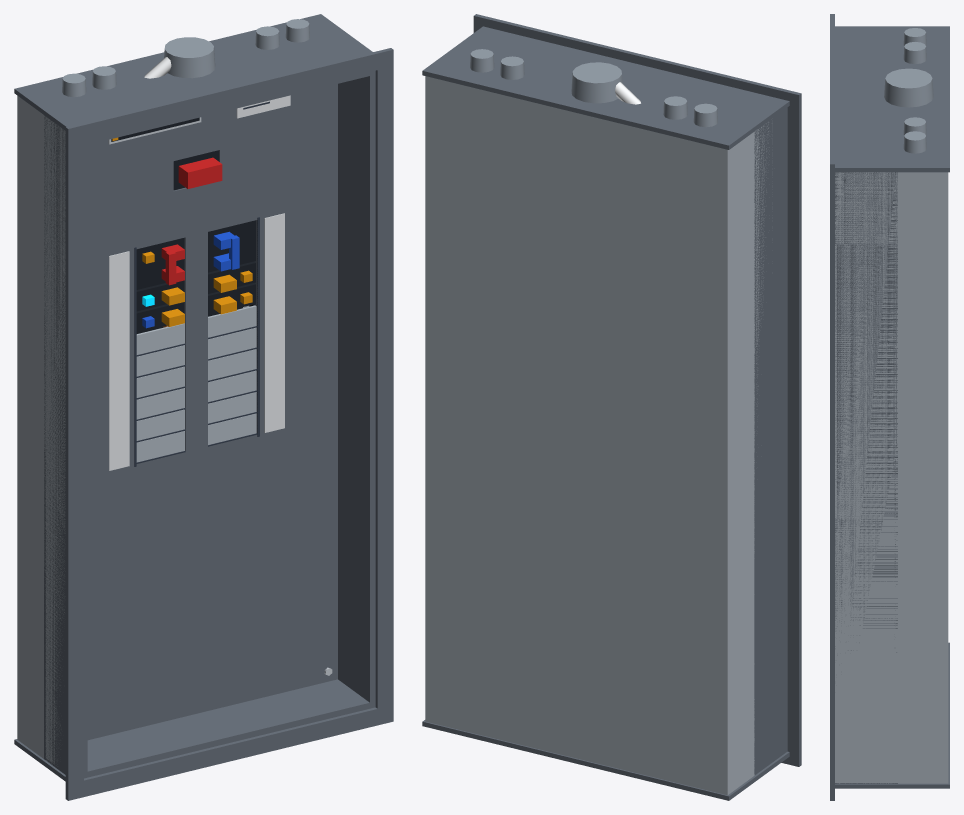
The picture shows the model from 3 angles, left to right: view 1: azimuth 30°, elevation 25°; view 2: azimuth 150°, elevation 25°; view 3: azimuth 270°, elevation 25°; orthographic projection. The views are drawn at different scales.
Visible parts, largest first — view 1: panel-interior-demo_res_cover_on, panel-nameplate-placards; view 2: panel-interior-demo_res_cover_on; view 3: panel-interior-demo_res_cover_on.
Part boxes in pixels (box(x1,y1,x2,y2)): panel-interior-demo_res_cover_on: box(14, 14, 393, 800); panel-nameplate-placards: box(108, 95, 290, 144); panel-interior-demo_res_cover_on: box(422, 14, 801, 800); panel-interior-demo_res_cover_on: box(830, 14, 949, 800).
Bounding box in the file's own units: 0.452 × 0.907 × 0.152.
